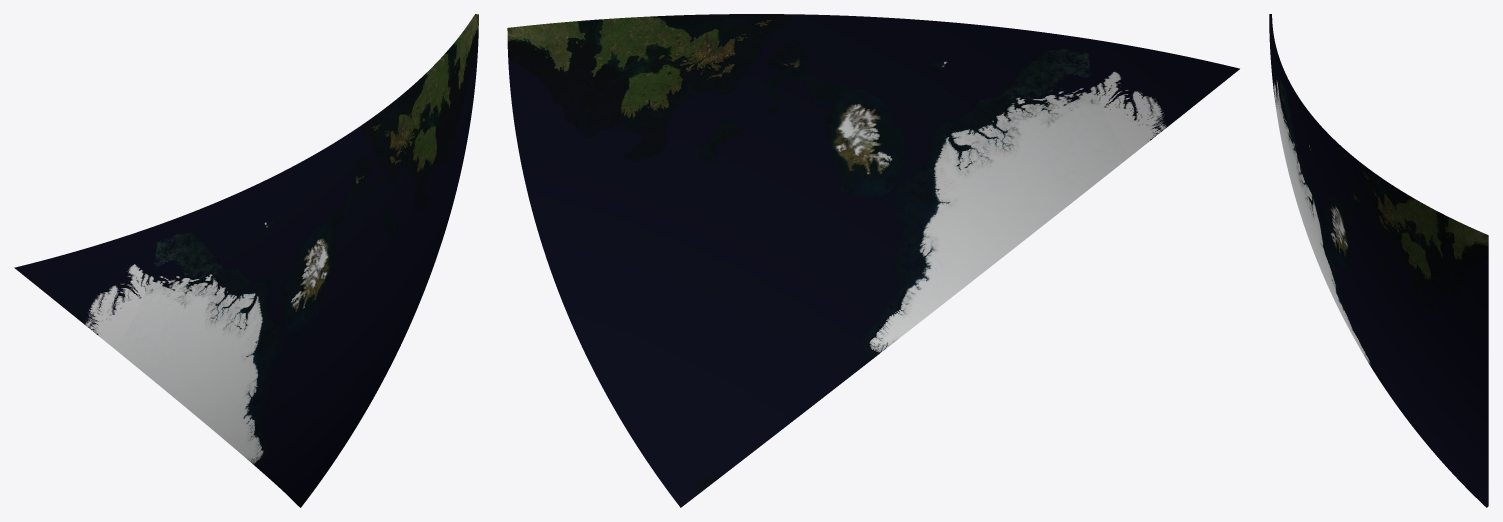
3 views of the same model, side by side, from view 1: azimuth 30°, elevation 25°; view 2: azimuth 150°, elevation 25°; view 3: azimuth 270°, elevation 25° (orthographic). The views are drawn at different scales.
Parts seen in each view (by area): view 1: DefaultName.005, DefaultName.007, DefaultName.003, DefaultName.001; view 2: DefaultName.007, DefaultName.005, DefaultName.001, DefaultName.003; view 3: DefaultName.005, DefaultName.007, DefaultName.003, DefaultName.001.
Boxes of the visible parts, left/top/right/bottom form: DefaultName.005: left=283, top=14, right=478, bottom=299; DefaultName.007: left=211, top=269, right=432, bottom=507; DefaultName.003: left=14, top=160, right=307, bottom=299; DefaultName.001: left=16, top=269, right=282, bottom=428; DefaultName.007: left=552, top=152, right=976, bottom=507; DefaultName.005: left=507, top=14, right=906, bottom=276; DefaultName.001: left=907, top=69, right=1238, bottom=277; DefaultName.003: left=882, top=17, right=1239, bottom=152; DefaultName.005: left=1326, top=134, right=1488, bottom=401; DefaultName.007: left=1326, top=225, right=1488, bottom=507; DefaultName.003: left=1269, top=14, right=1327, bottom=223; DefaultName.001: left=1269, top=29, right=1325, bottom=281.
Bounding box in the file's own units: 45176 × 31944 × 18870.
4 materials, 4 textured.
